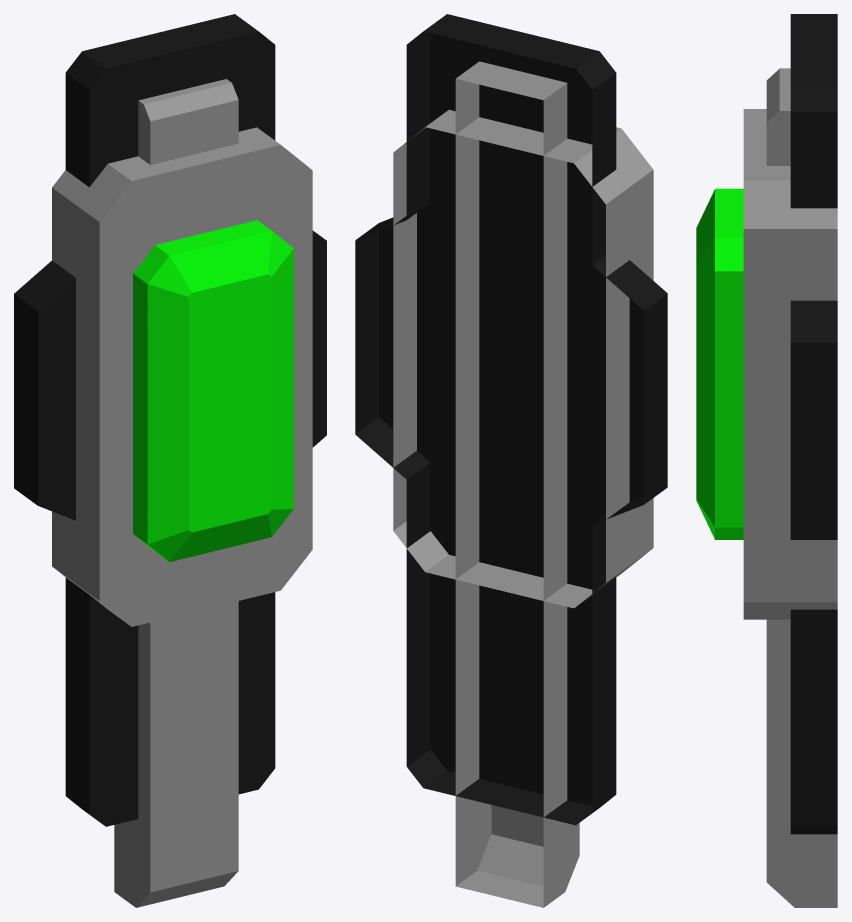
The model's file is Semaforo Verde.fbx.
3 renders of one model, left to right at view 1: azimuth 30°, elevation 25°; view 2: azimuth 150°, elevation 25°; view 3: azimuth 270°, elevation 25°, orthographic.
Visible parts, largest first — view 1: Semaforo Berde; view 2: Semaforo Berde; view 3: Semaforo Berde.
Boxes of the visible parts, x1,y1,x2,y2 form: Semaforo Berde: (14,14,326,907); Semaforo Berde: (355,14,667,907); Semaforo Berde: (696,14,837,907).
Bounding box in the file's own units: 175 × 490 × 75.09.
